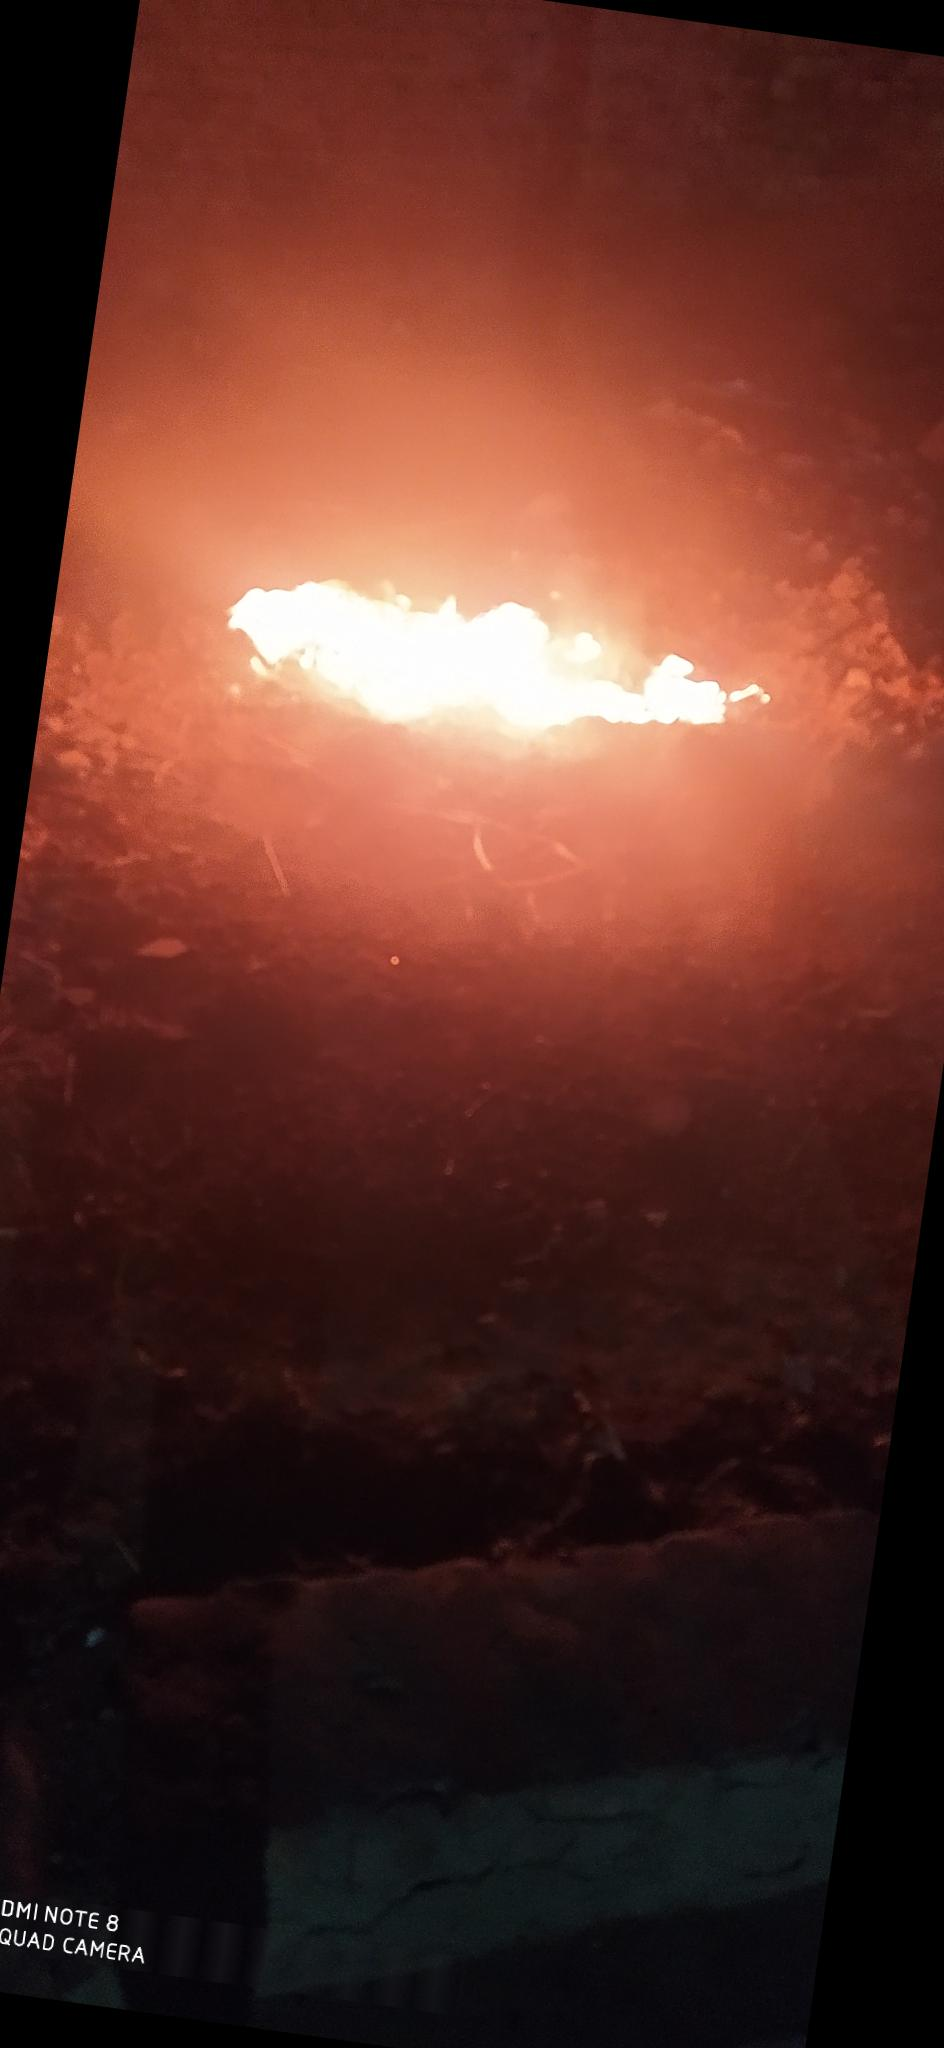Fire: (209, 549, 783, 780)
